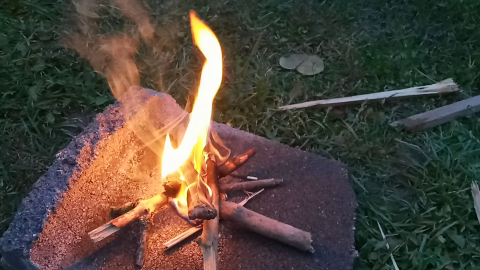fire: (153, 4, 226, 194)
